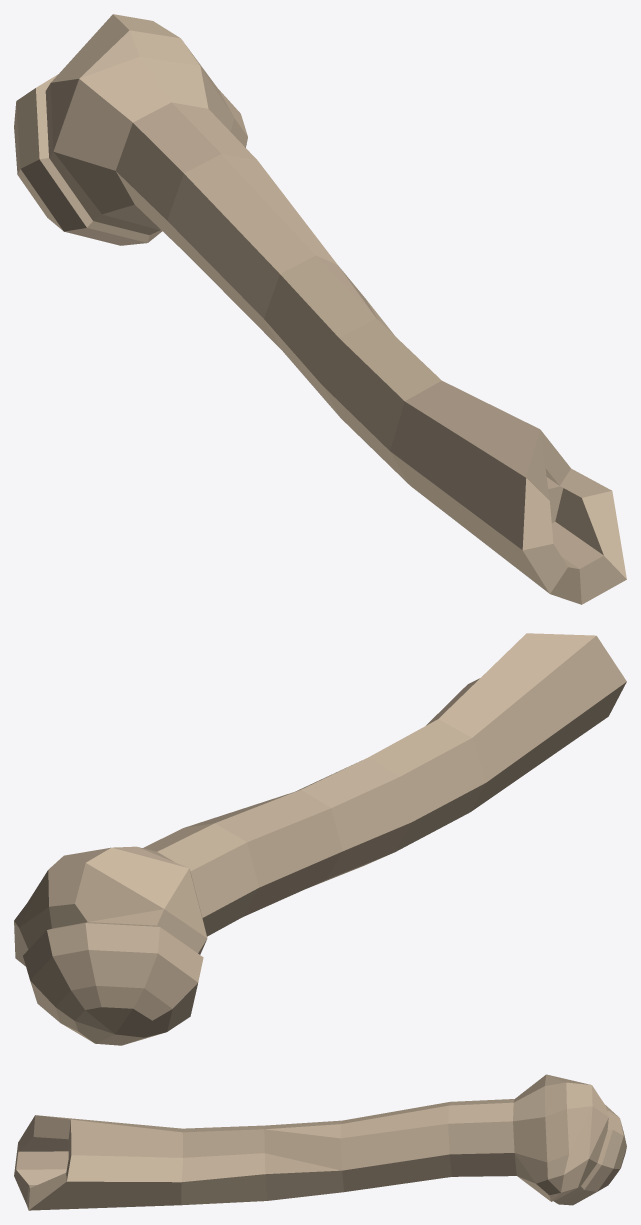
The model's file is SM_Bones_20.fbx.
3 renders of one model, top to bottom at view 1: azimuth 30°, elevation 25°; view 2: azimuth 150°, elevation 25°; view 3: azimuth 270°, elevation 25°, orthographic. The views are drawn at different scales.
Visible parts, largest first — view 1: SM_Bones_20; view 2: SM_Bones_20; view 3: SM_Bones_20.
Part boxes in pixels (x1,y1,x2,y2): SM_Bones_20: [14, 14, 626, 604]; SM_Bones_20: [14, 633, 626, 1045]; SM_Bones_20: [14, 1074, 626, 1210].
Size of the model in its own units: 4.2 by 4.25 by 18.48.
1 material, 1 textured.
